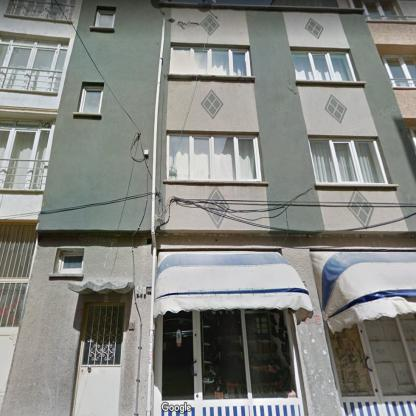door: (1, 223, 35, 406), (74, 303, 124, 415), (325, 323, 383, 415), (153, 312, 199, 415)
window: (198, 310, 304, 415), (363, 314, 415, 402), (166, 134, 262, 181), (1, 119, 54, 190), (308, 138, 388, 184), (2, 36, 67, 92), (170, 46, 250, 76), (291, 51, 356, 81), (4, 2, 74, 20), (380, 56, 414, 88), (352, 1, 405, 20), (78, 85, 104, 113), (57, 252, 82, 273), (94, 9, 116, 27), (407, 127, 415, 148)
